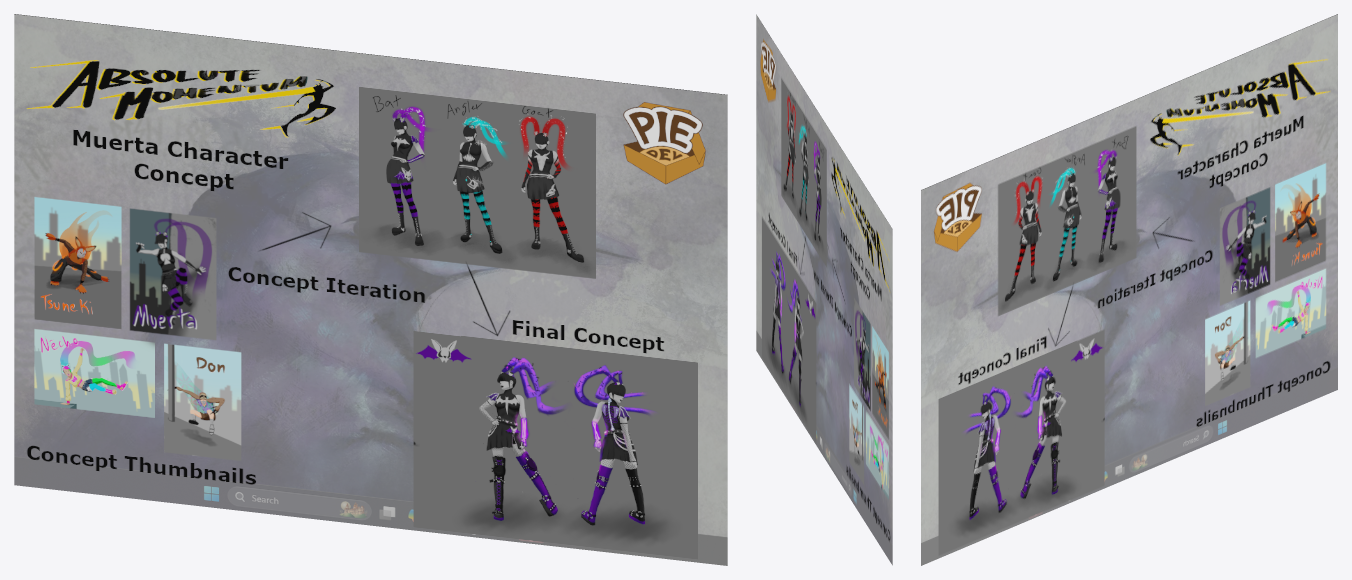
The model's file is inProgDesktop3Work_U2_2025.glb.
The picture shows the model from 3 angles, left to right: view 1: azimuth 30°, elevation 25°; view 2: azimuth 150°, elevation 25°; view 3: azimuth 270°, elevation 25°; orthographic projection. The views are drawn at different scales.
Parts seen in each view (by area): view 1: InProg Screen 3 Work; view 2: InProg Screen 3 Work; view 3: InProg Screen 3 Work.
Boxes of the visible parts, box(x1,y1,x2,y2) form: InProg Screen 3 Work: box(14, 14, 727, 565); InProg Screen 3 Work: box(756, 14, 892, 565); InProg Screen 3 Work: box(921, 14, 1337, 565).
Size of the model in its own units: 0.9057 by 0.9015 by 0.9057.
Materials: 1 (1 with a texture image).
